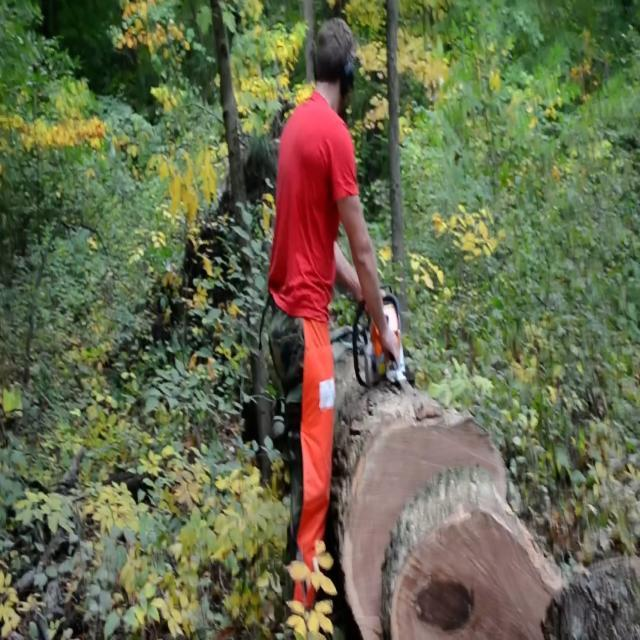Chainsaw: (348, 243, 418, 412)
